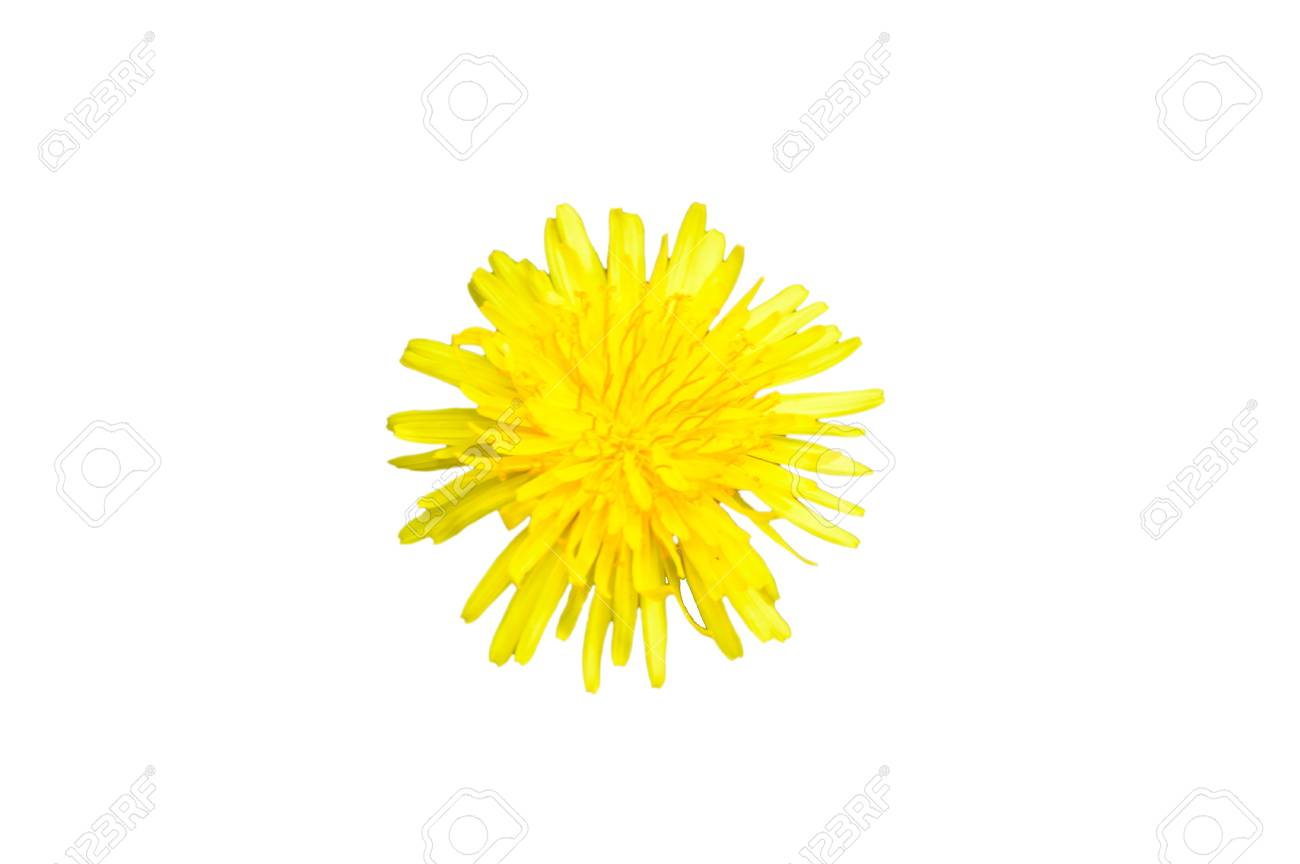dandelion: (428, 253, 823, 667)
